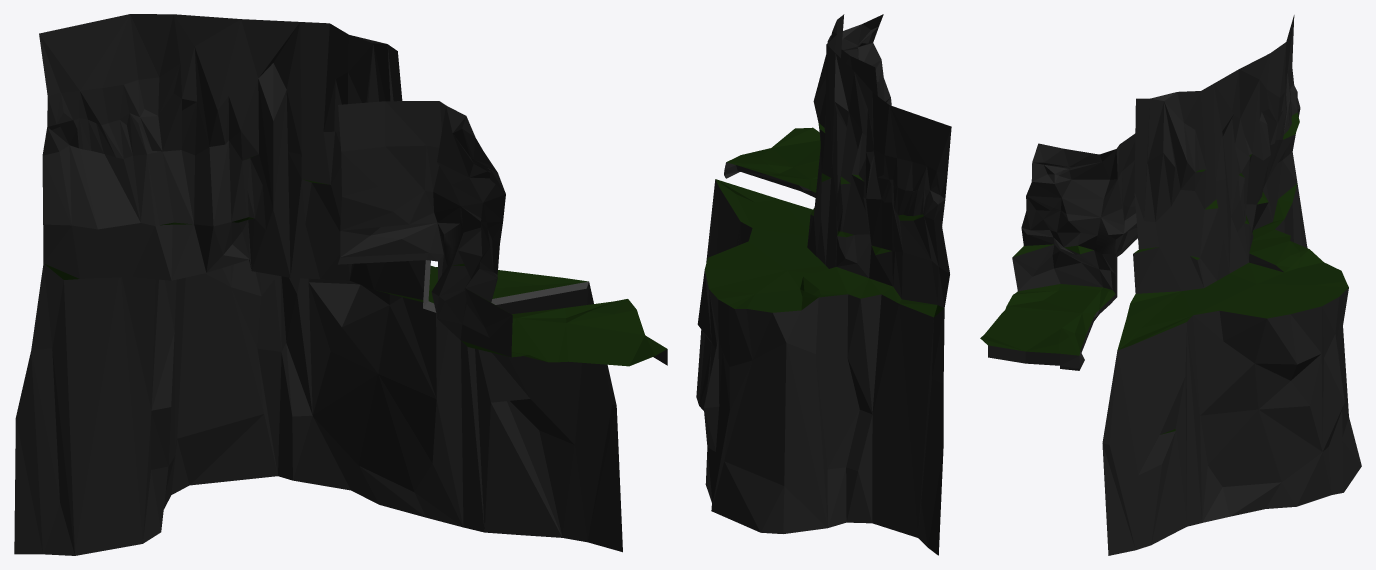
The model's file is terrain02.FBX.
The picture shows the model from 3 angles, left to right: view 1: azimuth 30°, elevation 25°; view 2: azimuth 150°, elevation 25°; view 3: azimuth 270°, elevation 25°; orthographic projection. The views are drawn at different scales.
Visible parts, largest first — view 1: terrain01; view 2: terrain01; view 3: terrain01.
Part boxes in pixels (x1,y1,x2,y2): terrain01: (14, 14, 667, 555); terrain01: (696, 14, 951, 555); terrain01: (980, 15, 1361, 555).
Size of the model in its own units: 32319 by 36019 by 32369.
